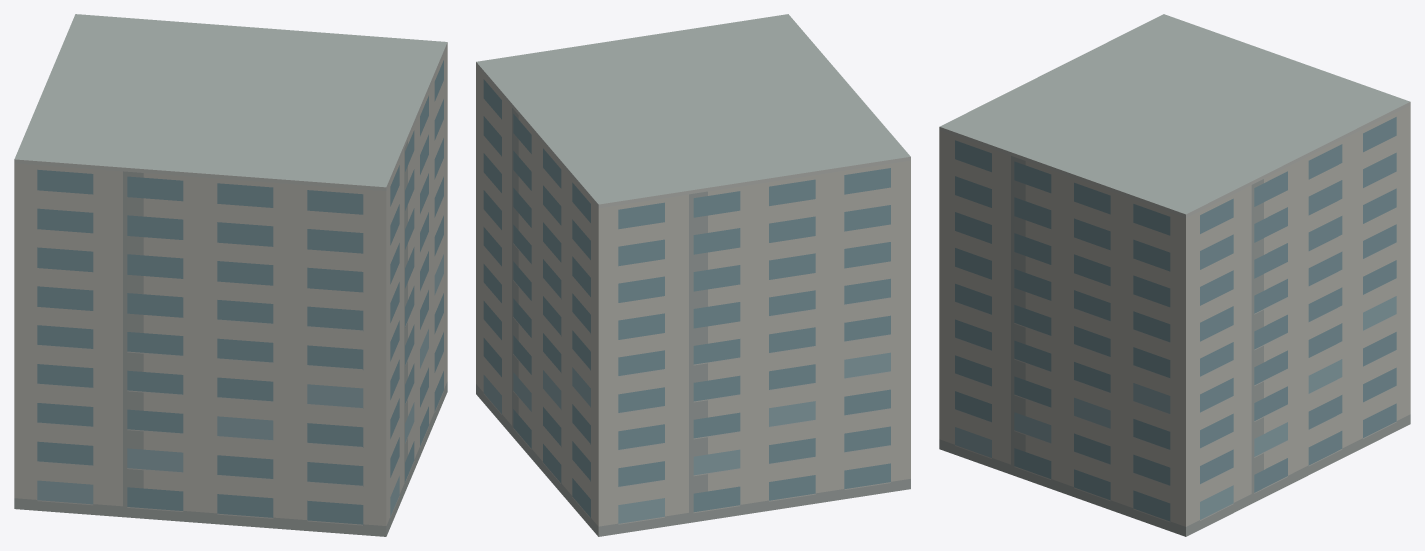
Rendered from residential-ea854f29-818e-42f8-a10f-d401e389201f.glb.
3 views of the same model, side by side, from view 1: azimuth 30°, elevation 25°; view 2: azimuth 150°, elevation 25°; view 3: azimuth 270°, elevation 25° (orthographic). The views are drawn at different scales.
Visible parts, largest first — view 1: residential-ea854f29-818e-42f8-a10f-d401e389201f.tmp; view 2: residential-ea854f29-818e-42f8-a10f-d401e389201f.tmp; view 3: residential-ea854f29-818e-42f8-a10f-d401e389201f.tmp.
Boxes of the visible parts, x1=… form: residential-ea854f29-818e-42f8-a10f-d401e389201f.tmp: x1=14, y1=14, x2=447, y2=536; residential-ea854f29-818e-42f8-a10f-d401e389201f.tmp: x1=476, y1=14, x2=910, y2=536; residential-ea854f29-818e-42f8-a10f-d401e389201f.tmp: x1=939, y1=14, x2=1410, y2=536.
Size of the model in its own units: 29.33 by 22 by 29.13.
